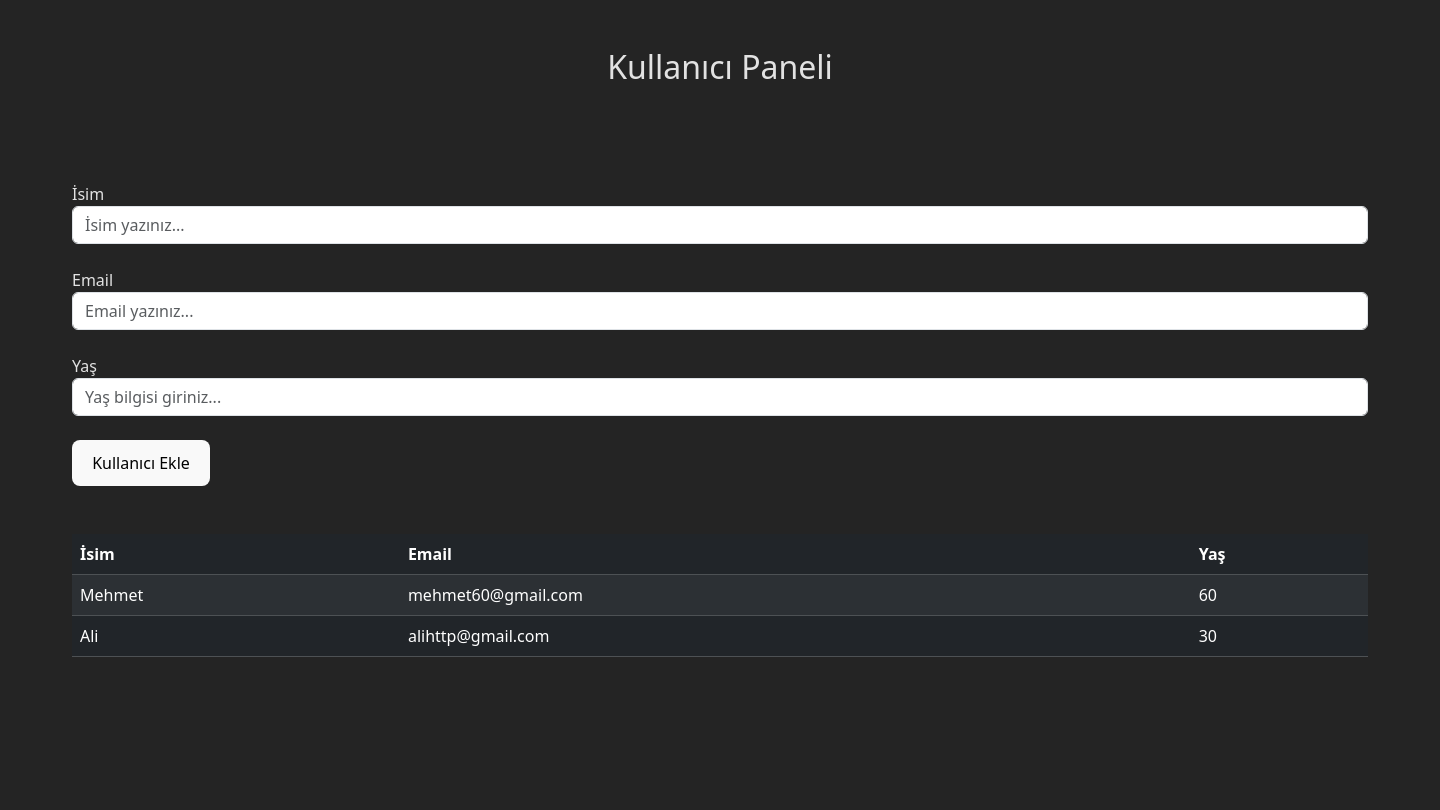
Scenario: Uygulama doğru bir şekilde çalışıyor mu?
*inputları doldur
Type "Veli" into the field labelled "İsim" at (720, 225), box [72,206,1368,244]
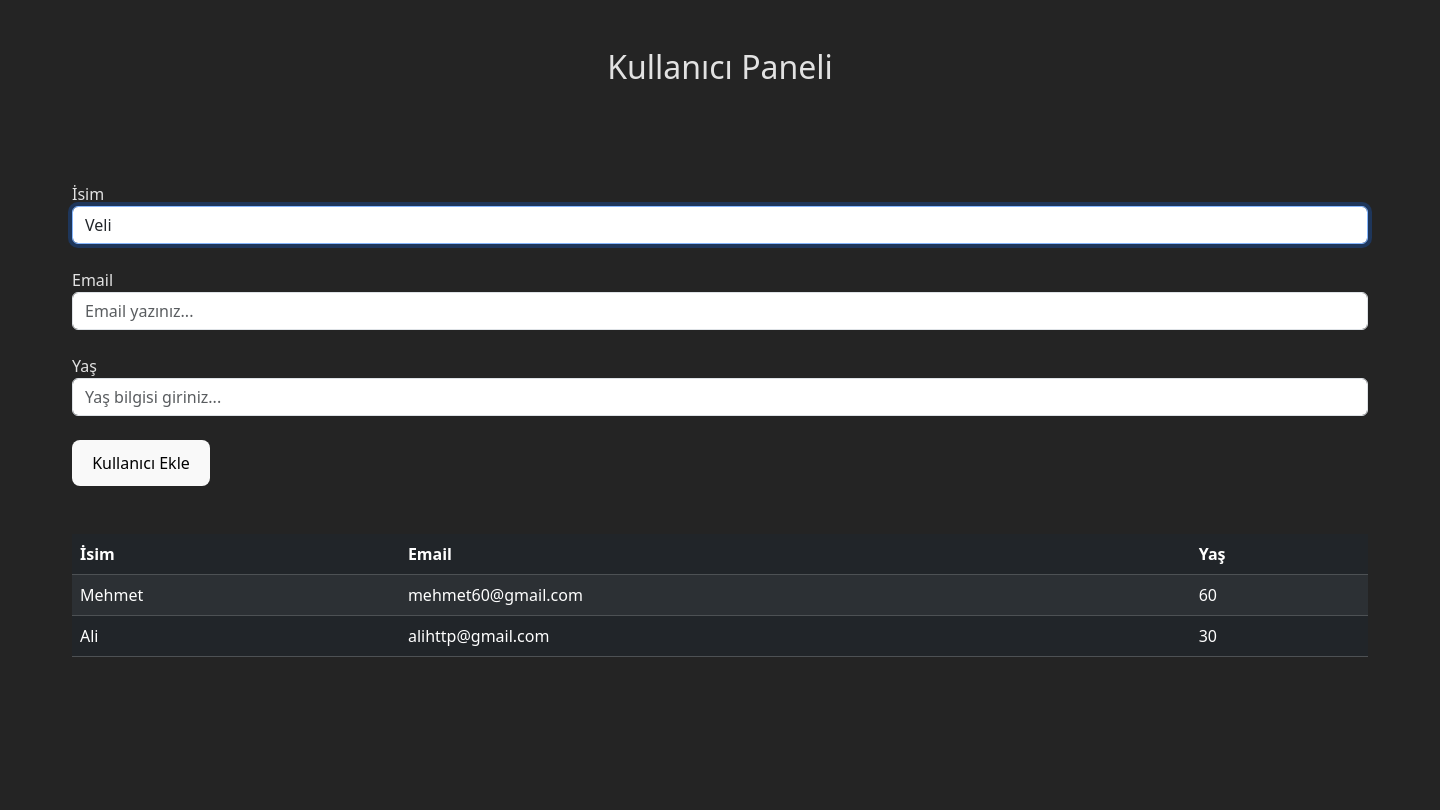
Type "veli124@gmail.com" into the field labelled "Email" at (720, 311), box [72,292,1368,330]
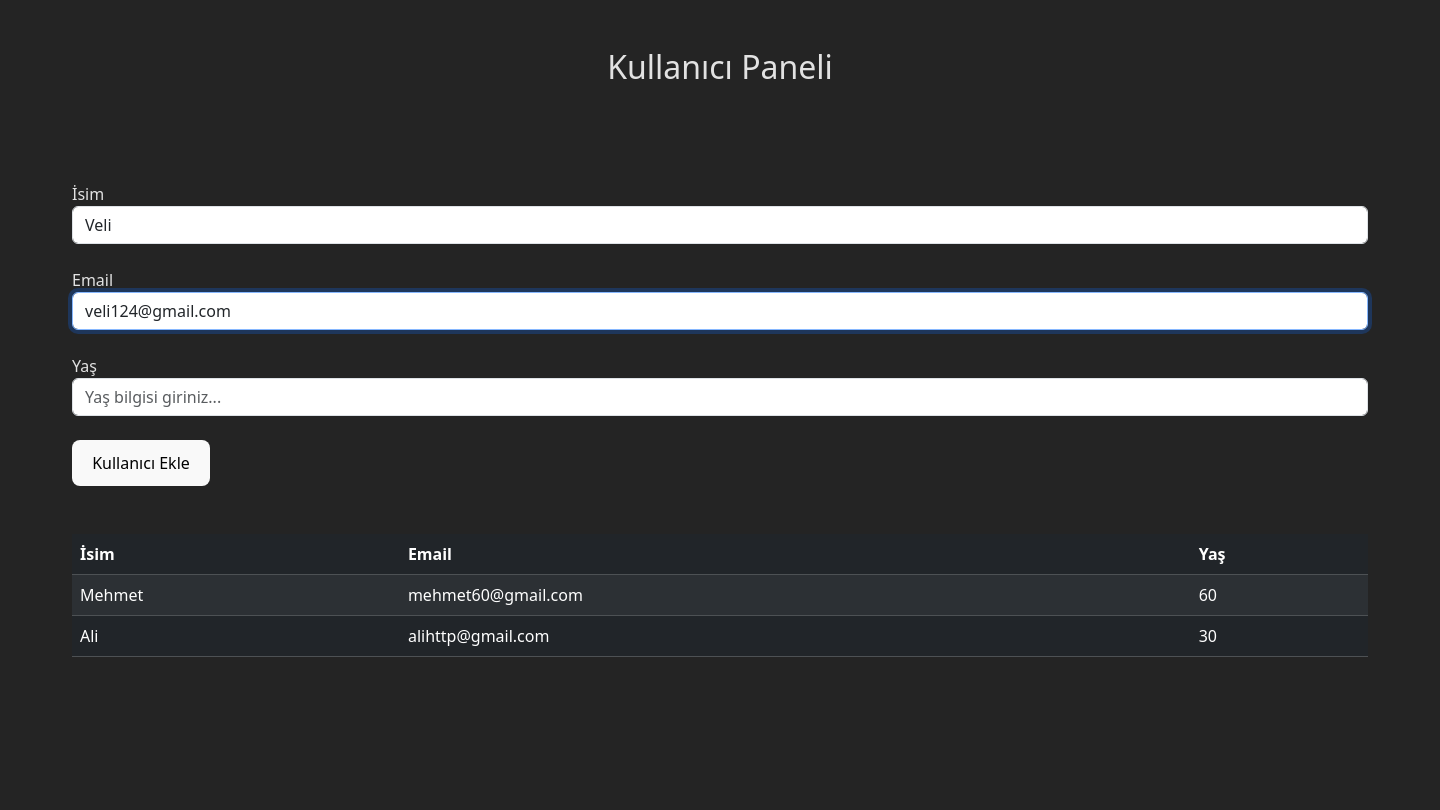
Type "20" into the number field with placeholder "Yaş bilgisi giriniz..." at (720, 397), box [72,378,1368,416]
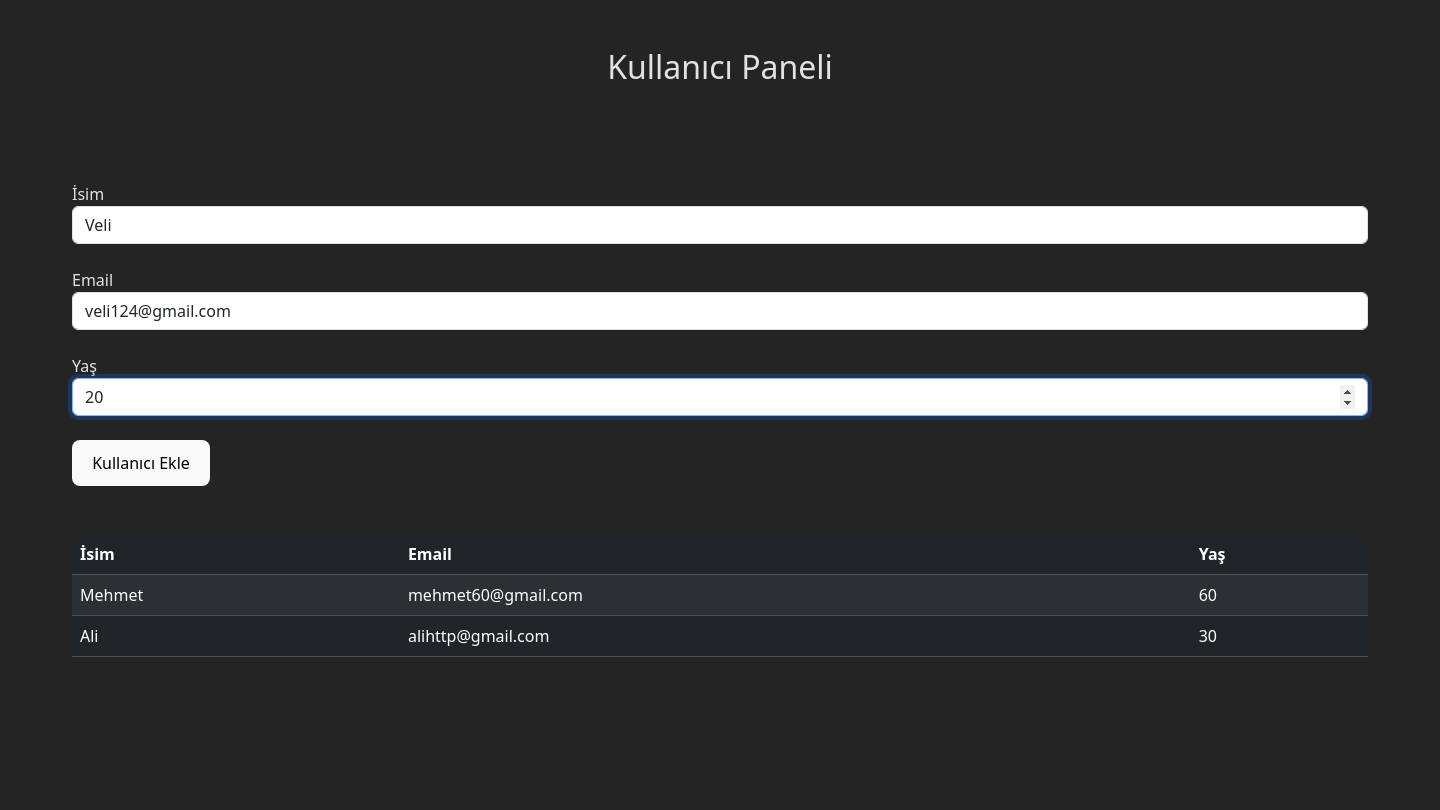
*kullanıcı ekle butonuna tıkla
Click the button "Kullanıcı Ekle" at (141, 463), box [72,440,210,486]
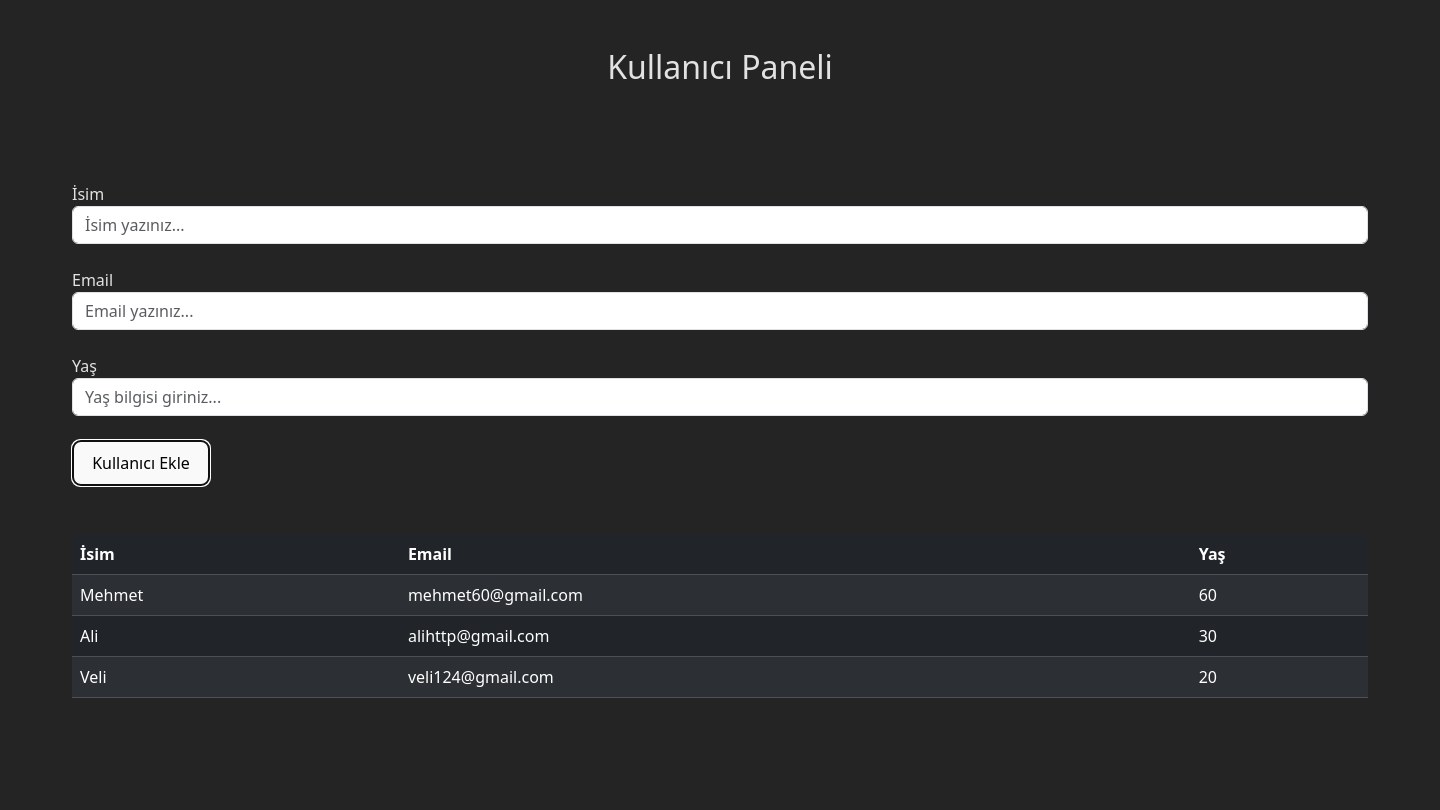
Expected: the cell "Veli" is shown, [72,656,400,697]
Expected: the cell "veli124@gmail.com" is shown, [400,656,1191,697]
Expected: the cell "20" is shown, [1191,656,1368,697]
